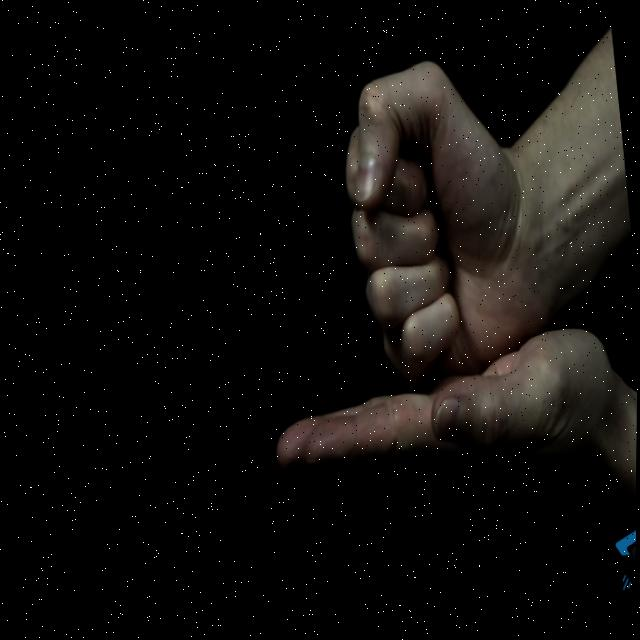Rock: (333, 49, 559, 395)
